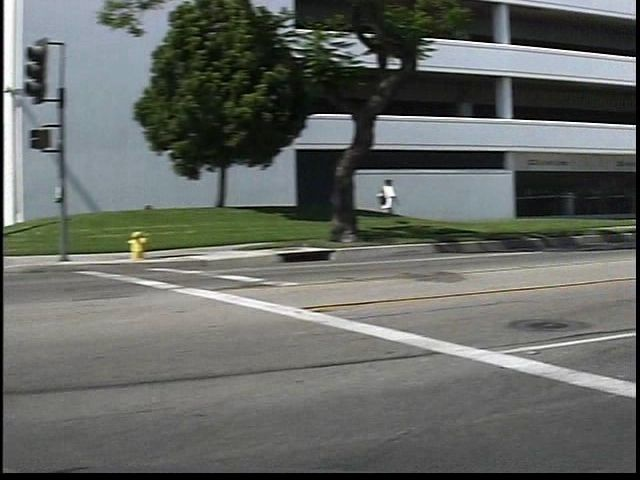person: (394, 175, 419, 236)
